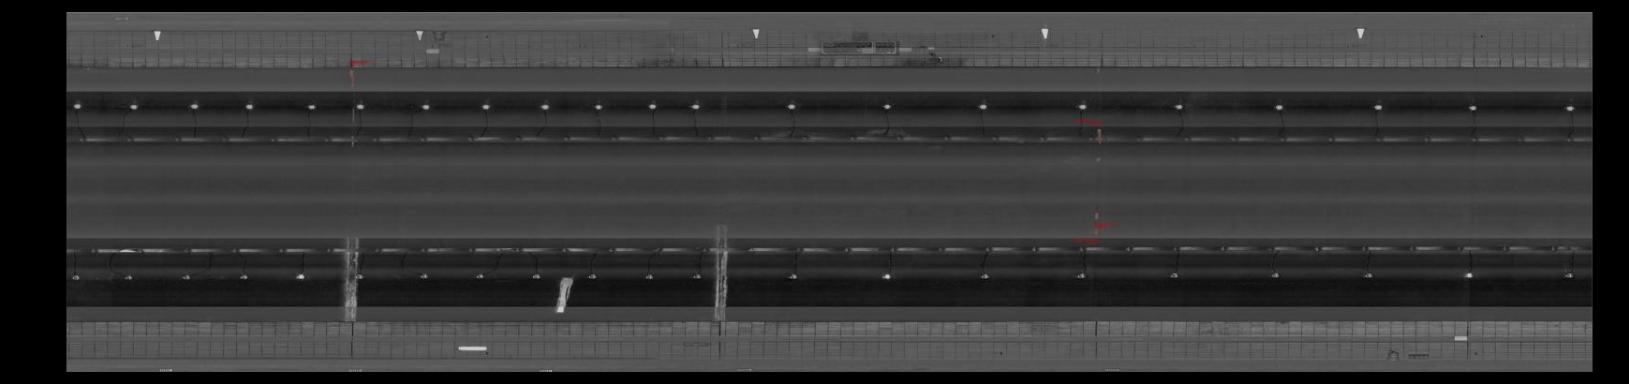light: (780, 100, 804, 113), (876, 268, 898, 282), (1163, 268, 1184, 281), (1358, 268, 1378, 282), (1071, 100, 1092, 113), (1559, 267, 1578, 281), (1460, 267, 1478, 281), (876, 99, 894, 113), (1270, 101, 1289, 114), (974, 269, 994, 282), (70, 269, 85, 285), (973, 100, 992, 113), (471, 269, 489, 282), (416, 100, 435, 112), (1170, 100, 1187, 113), (126, 99, 143, 112), (1265, 268, 1284, 280), (119, 268, 135, 282), (240, 100, 258, 112), (536, 100, 554, 112), (1368, 102, 1387, 113), (784, 271, 803, 282), (185, 100, 204, 111), (292, 269, 309, 281), (70, 100, 86, 112), (1464, 103, 1484, 113), (1561, 103, 1579, 114), (1072, 271, 1090, 282), (583, 270, 598, 282), (686, 100, 704, 110), (591, 100, 607, 112), (527, 271, 545, 281), (689, 271, 705, 282), (644, 101, 661, 112), (416, 271, 432, 282), (235, 270, 251, 281), (478, 101, 495, 112), (642, 271, 658, 282), (178, 271, 193, 282), (353, 99, 369, 110), (303, 101, 318, 112), (354, 271, 368, 281)
